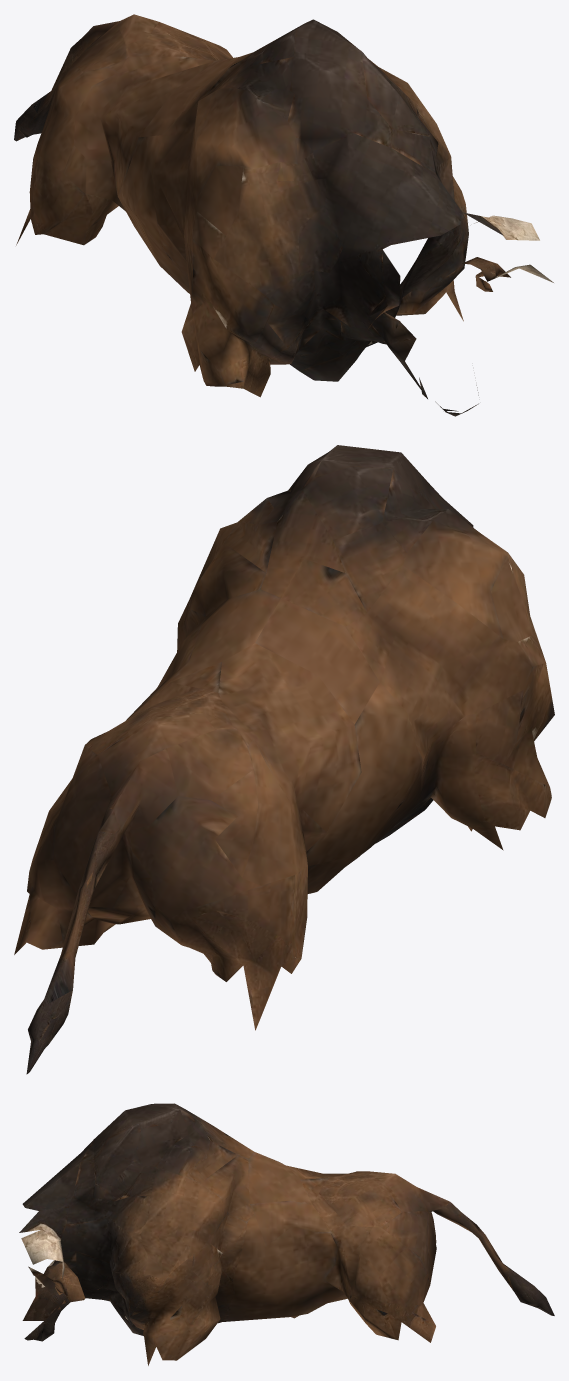
The model's file is bull_body.glb.
The picture shows the model from 3 angles, top to bottom: view 1: azimuth 30°, elevation 25°; view 2: azimuth 150°, elevation 25°; view 3: azimuth 270°, elevation 25°; orthographic projection. The views are drawn at different scales.
Parts seen in each view (by area): view 1: bull_body; view 2: bull_body; view 3: bull_body.
Part boxes in pixels (x1,y1,x2,y2): bull_body: (14,14,553,416); bull_body: (14,445,554,1074); bull_body: (19,1103,554,1365).
Size of the model in its own units: 1.82 by 2.08 by 4.35.
1 material, 1 textured.
